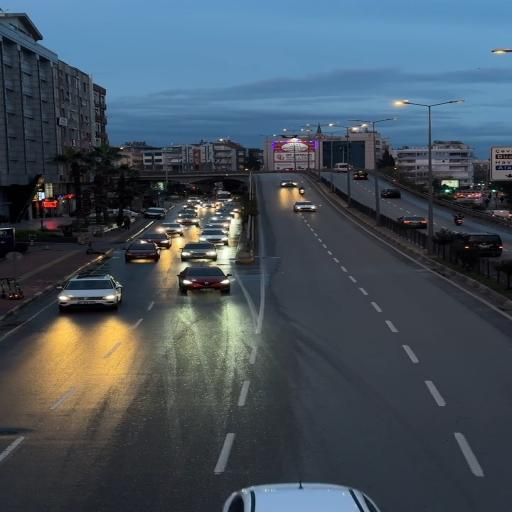car: (208, 468, 417, 512), (50, 274, 138, 310), (288, 198, 361, 236), (166, 278, 270, 304), (334, 160, 397, 195), (448, 234, 512, 267), (98, 241, 169, 269), (188, 210, 254, 236), (270, 172, 326, 196), (183, 239, 238, 262), (185, 194, 250, 213), (149, 224, 202, 245), (398, 210, 435, 233), (373, 188, 417, 207), (153, 206, 182, 230)
lights: (384, 94, 471, 185), (274, 109, 390, 153), (462, 31, 512, 79)
